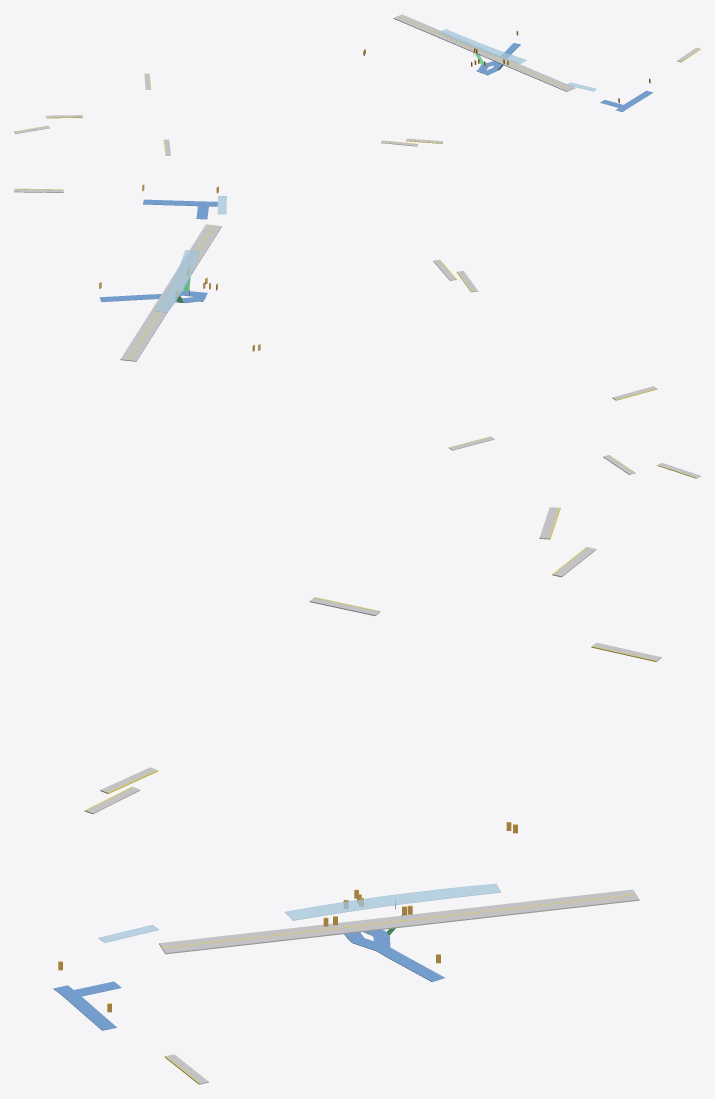
Rendered from 8508070-oberzollikofen.glb.
The picture shows the model from 3 angles, top to bottom: view 1: azimuth 30°, elevation 25°; view 2: azimuth 150°, elevation 25°; view 3: azimuth 270°, elevation 25°; orthographic projection. The views are drawn at different scales.
Parts seen in each view (by area): view 1: platform_body@0, roof@0, passage@-1, boarding_edge@0; view 2: platform_body@0, passage@-1, roof@0, boarding_edge@0; view 3: platform_body@0, roof@0, passage@-1, boarding_edge@0.
Part boxes in pixels (<box>): platform_body@0: <box>14,14,699,155</box>; roof@0: <box>439,29,596,91</box>; passage@-1: <box>476,43,653,111</box>; boarding_edge@0: <box>14,16,700,155</box>; platform_body@0: <box>14,189,700,478</box>; passage@-1: <box>99,199,217,303</box>; roof@0: <box>154,196,226,312</box>; boarding_edge@0: <box>14,188,696,478</box>; platform_body@0: <box>85,507,661,1084</box>; roof@0: <box>98,883,500,942</box>; passage@-1: <box>53,930,444,1030</box>; boarding_edge@0: <box>84,507,656,1084</box>.
Bounding box in the file's own units: 337 × 9.12 × 149.
